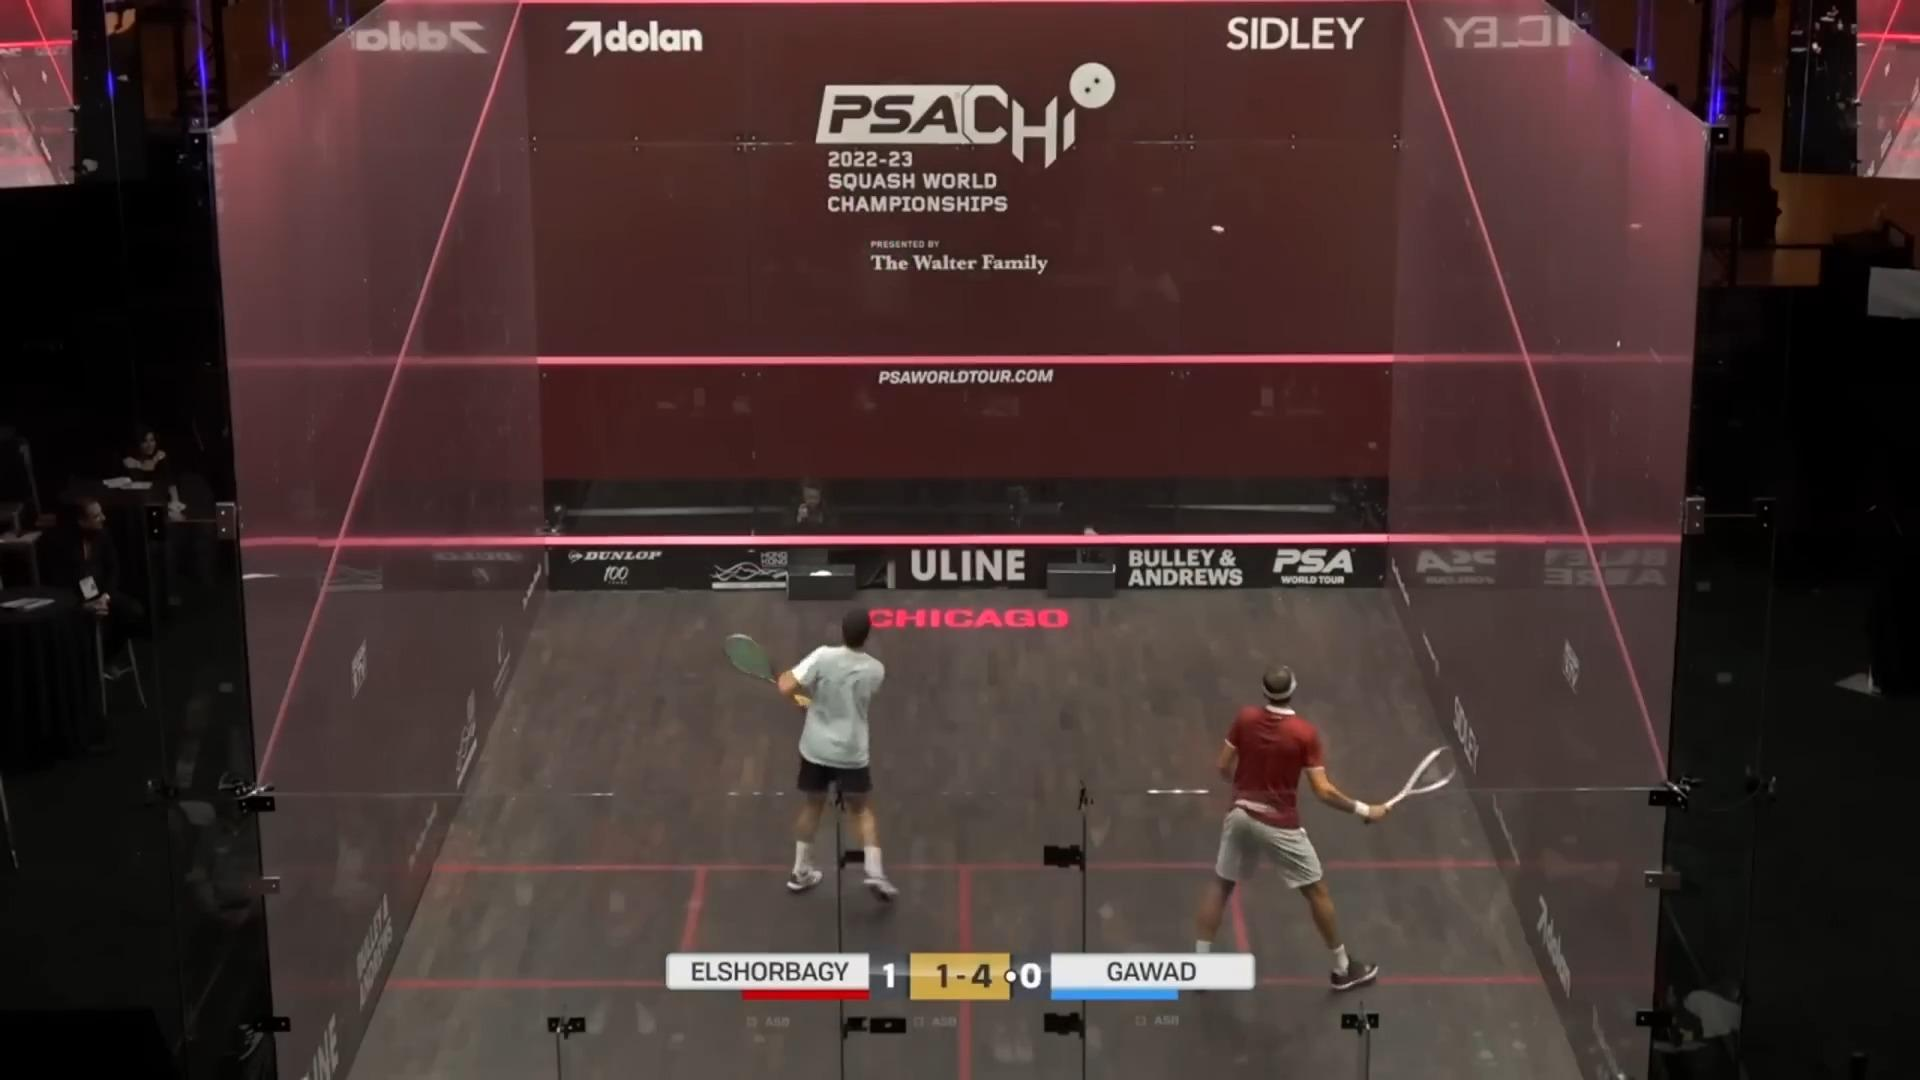Squash-Ball: (1191, 199, 1242, 257)
